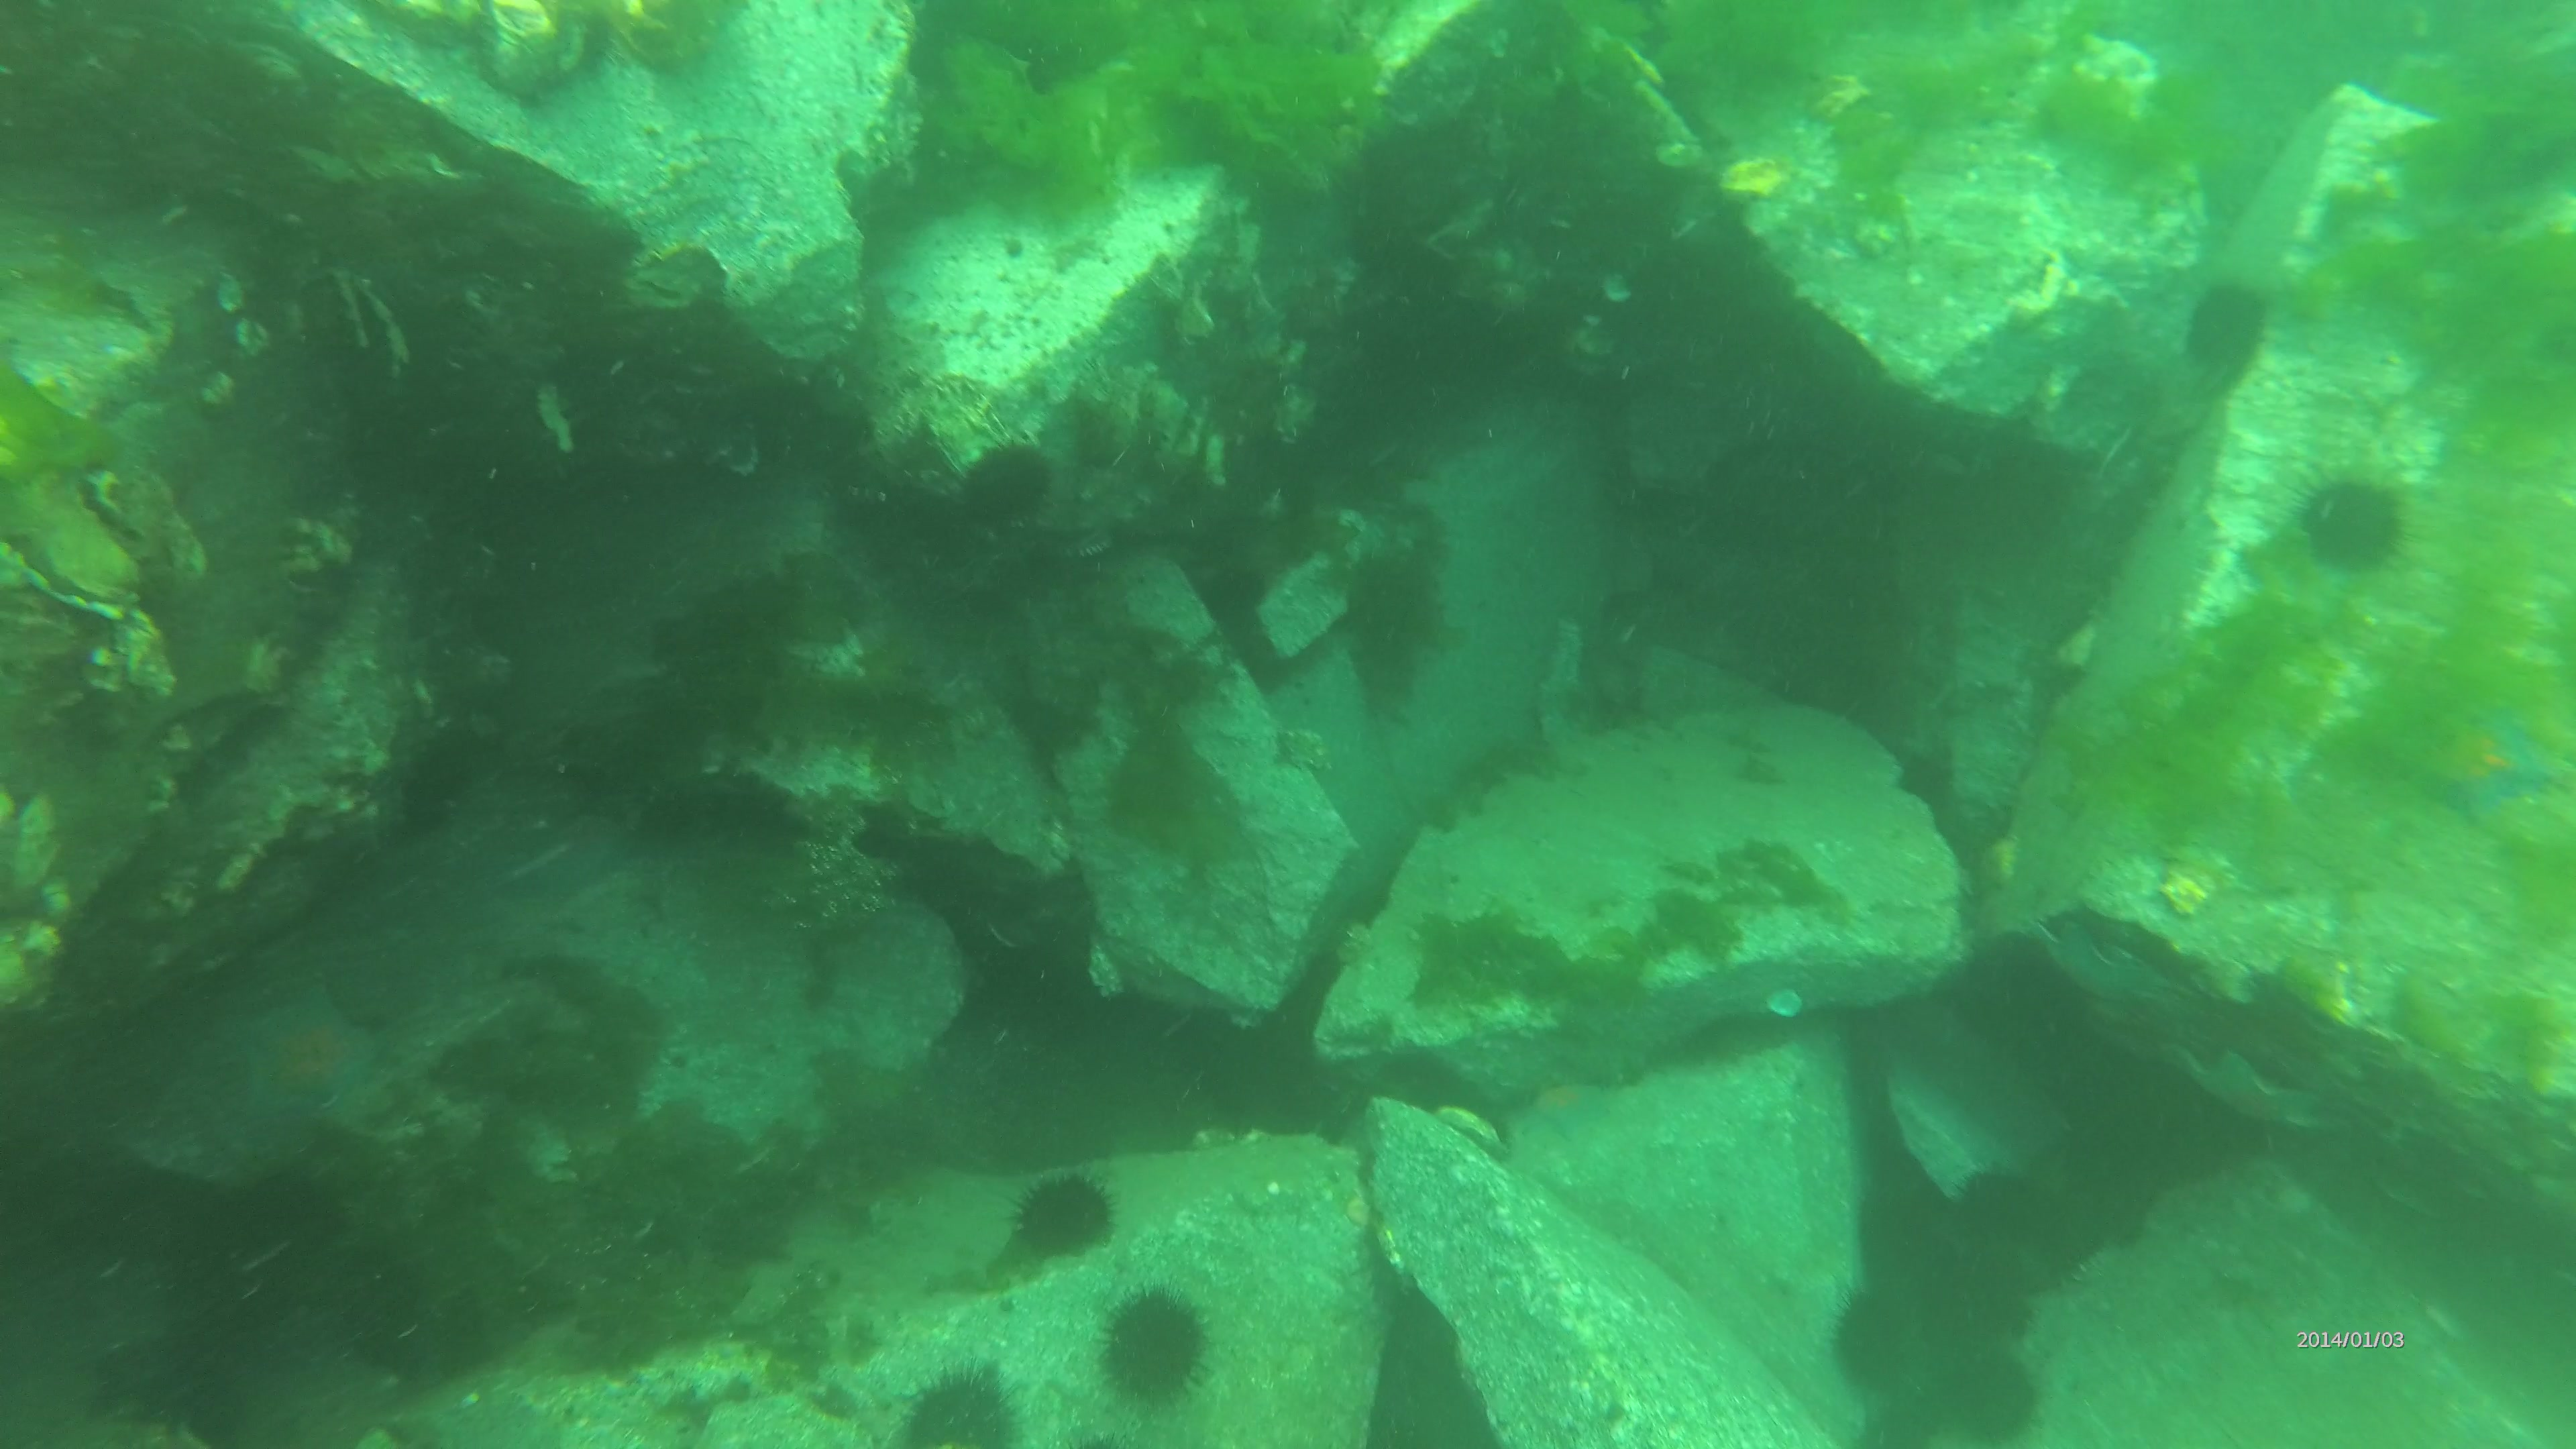echinus: (1086, 1277, 1219, 1410), (2289, 464, 2411, 575), (897, 1357, 1023, 1449), (1005, 1171, 1120, 1261), (962, 433, 1062, 522), (1826, 1281, 1904, 1389), (2185, 283, 2272, 373), (1971, 1350, 2045, 1447), (1957, 1166, 2042, 1247), (1191, 561, 1272, 625)
starfish: (219, 980, 393, 1125), (2436, 701, 2553, 826), (1516, 1085, 1614, 1138), (1433, 1102, 1507, 1157)
